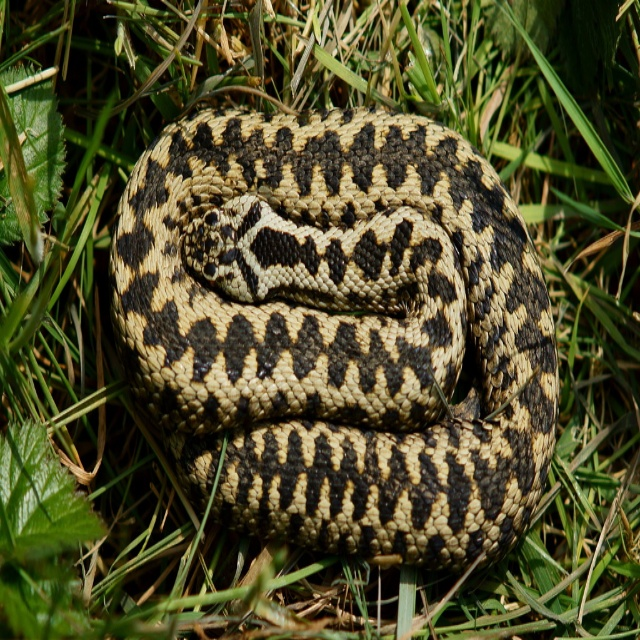Snake: (107, 107, 561, 572)
